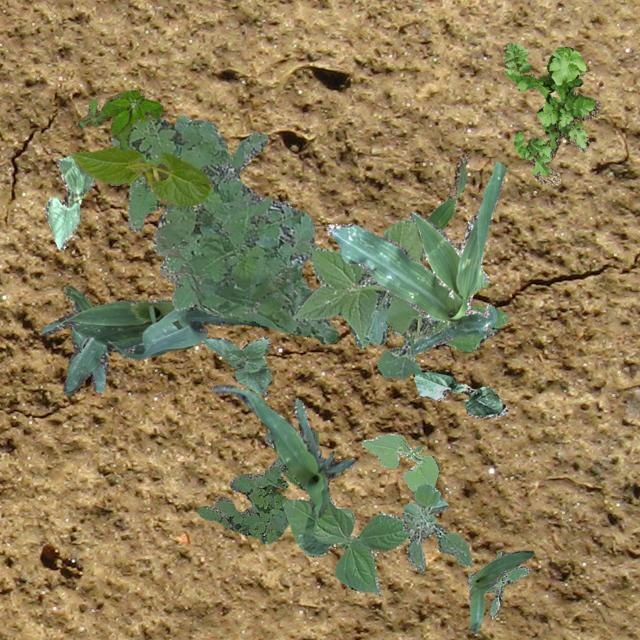crop: (326, 160, 504, 353), (41, 284, 268, 394), (212, 384, 354, 516), (282, 496, 412, 592), (68, 146, 210, 204), (468, 550, 534, 632), (418, 153, 468, 260), (412, 368, 507, 416), (360, 432, 438, 490), (44, 154, 92, 248), (200, 336, 270, 394)
weed: (111, 114, 337, 344), (292, 218, 506, 378), (502, 42, 600, 184), (196, 428, 318, 542), (400, 482, 470, 570), (76, 89, 162, 150), (466, 550, 528, 618)
